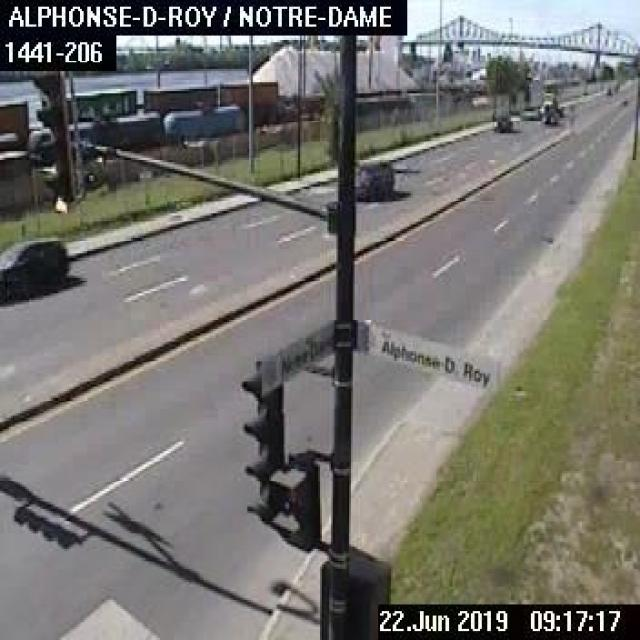vehicle: (0, 233, 65, 302), (352, 156, 392, 198), (492, 114, 511, 130)
